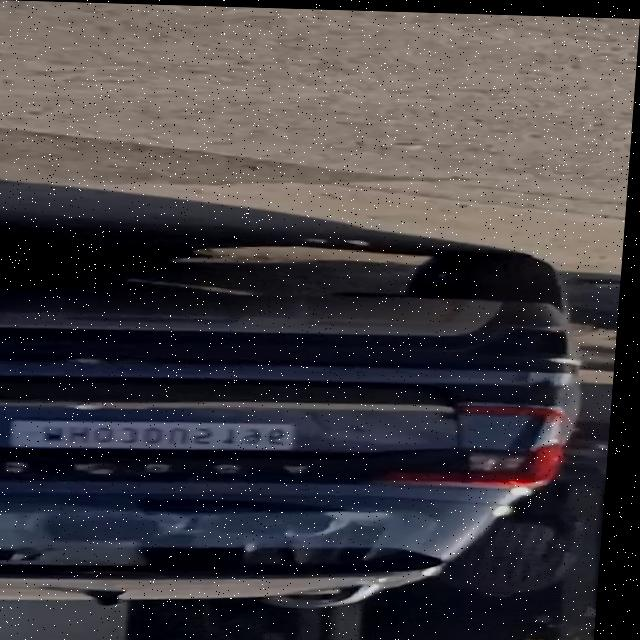plate: (6, 411, 318, 462)
